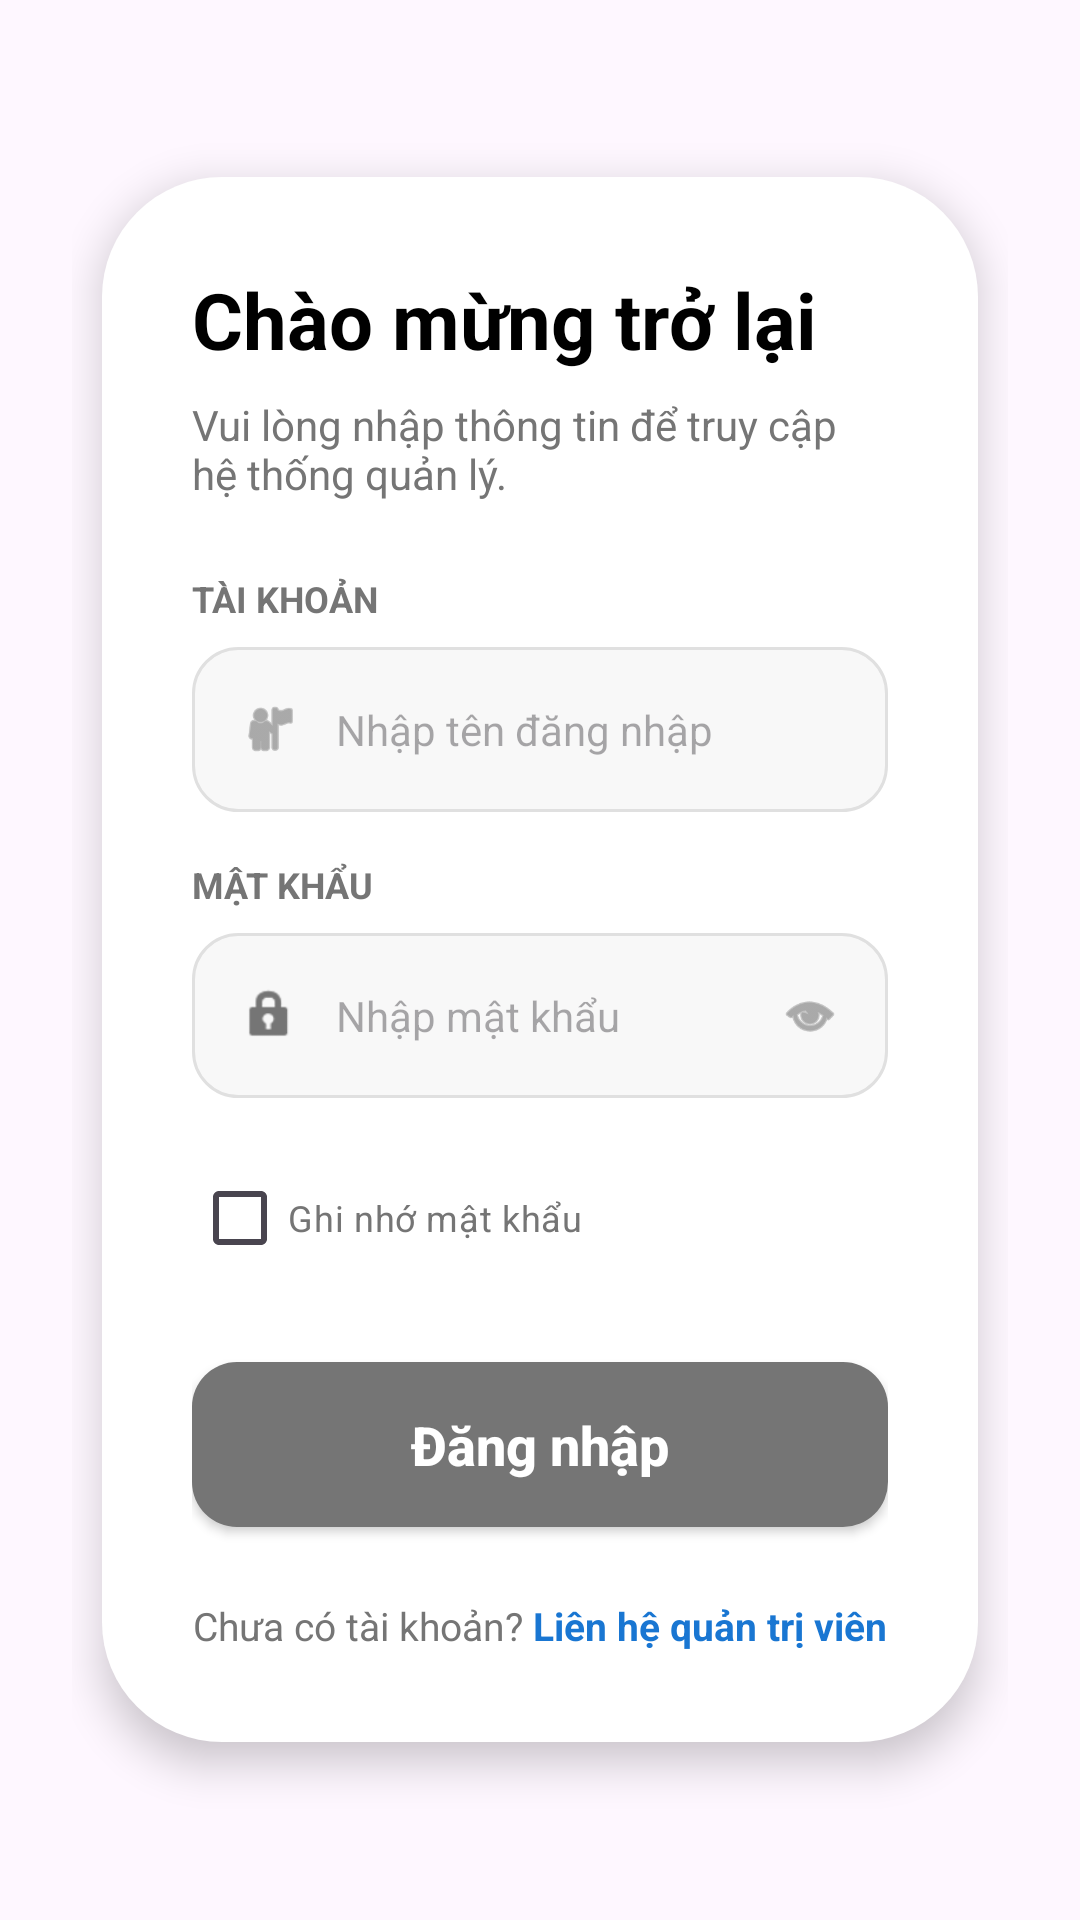

Where to tap for icons on this 1080 x 1920 app screen, as (x,y):
lock idle: (268,1013)
myplaces: (270,729)
view: (810,1016)
